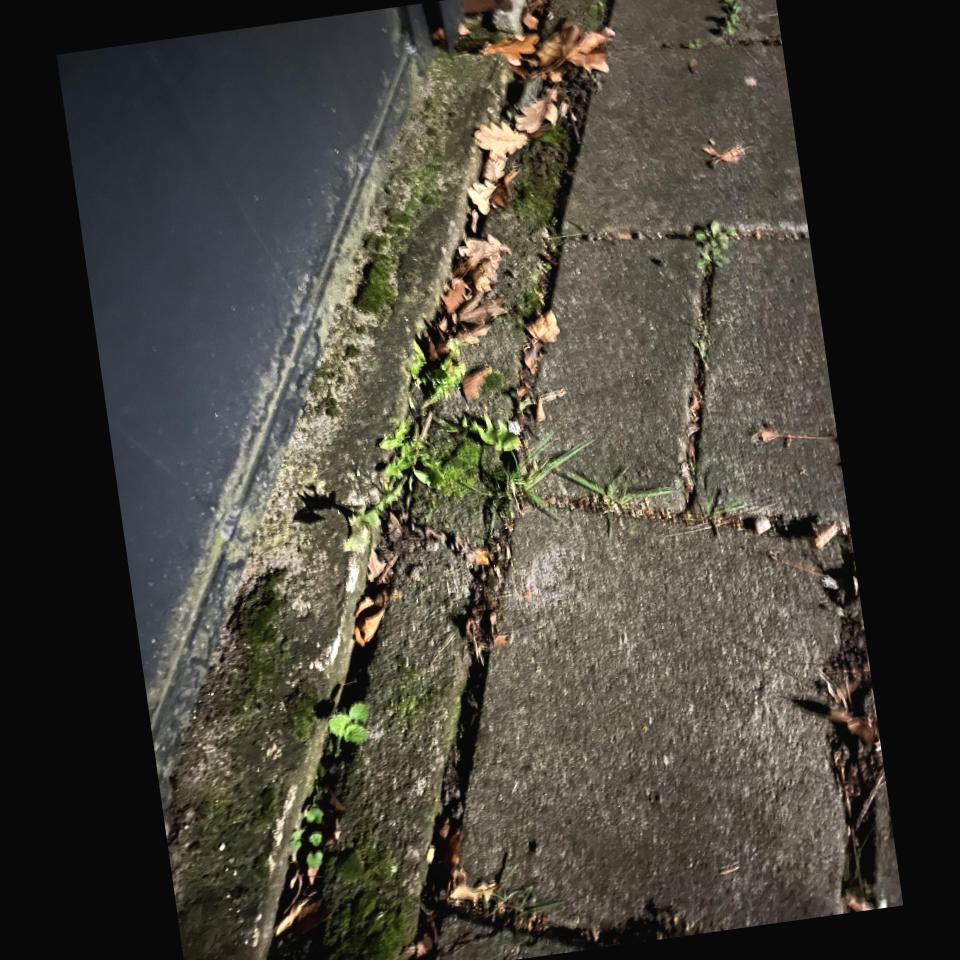weed: (465, 415, 591, 528), (380, 422, 443, 505), (414, 342, 466, 405), (695, 220, 738, 273), (329, 703, 369, 744), (721, 0, 744, 36)
